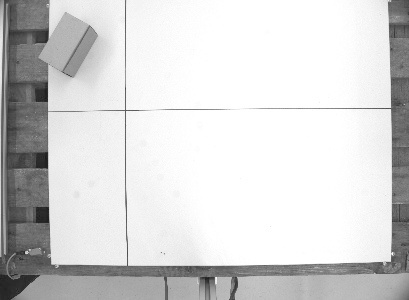b2: (35, 8, 100, 80)
